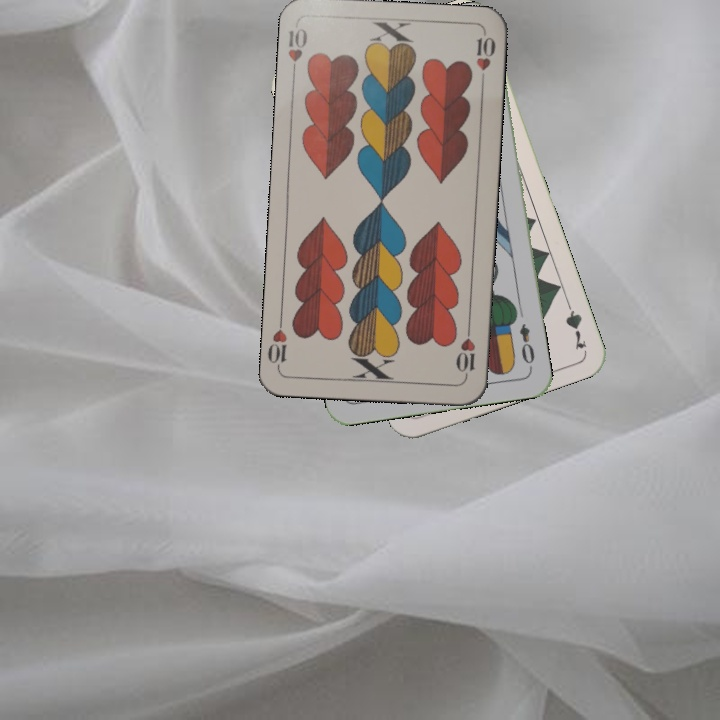EO: (515, 320, 538, 372)
G7: (561, 294, 589, 353)
H10: (453, 321, 478, 380), (284, 24, 310, 80)
